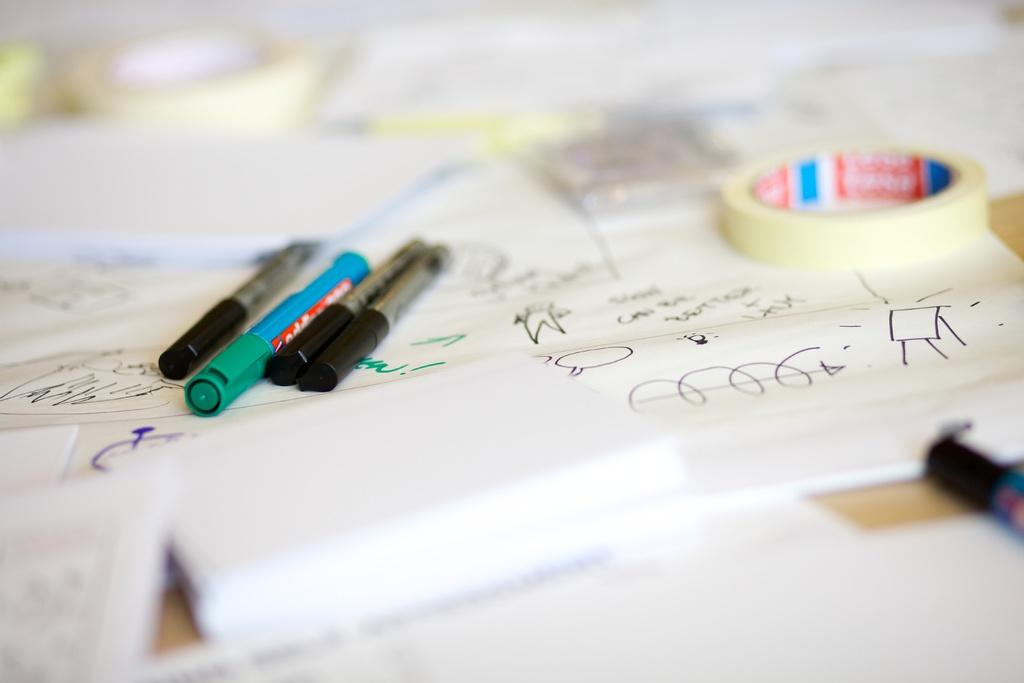pen: (160, 228, 464, 422)
